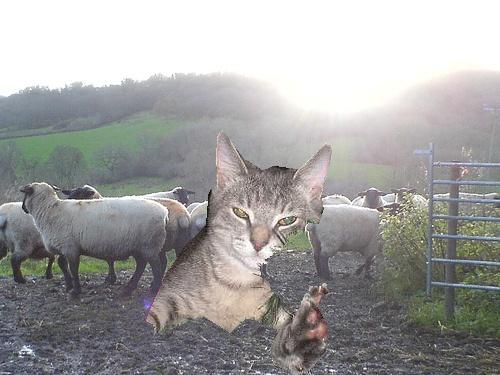tampered: (147, 131, 332, 375)
